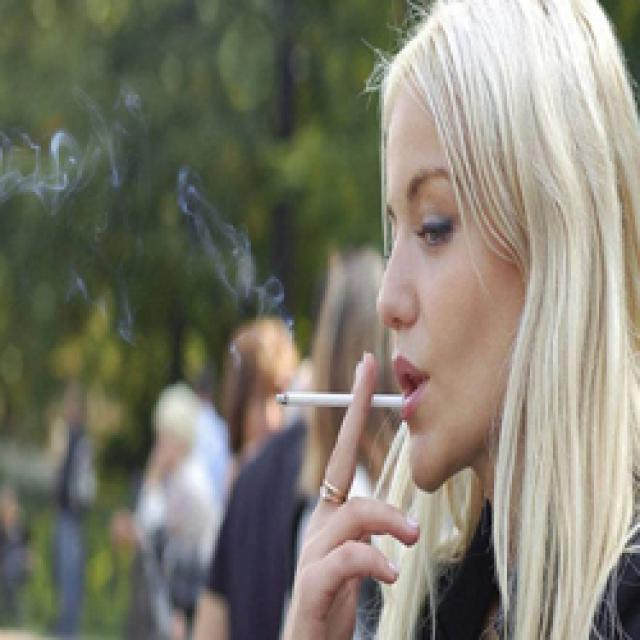Smooking: (270, 373, 410, 437)
